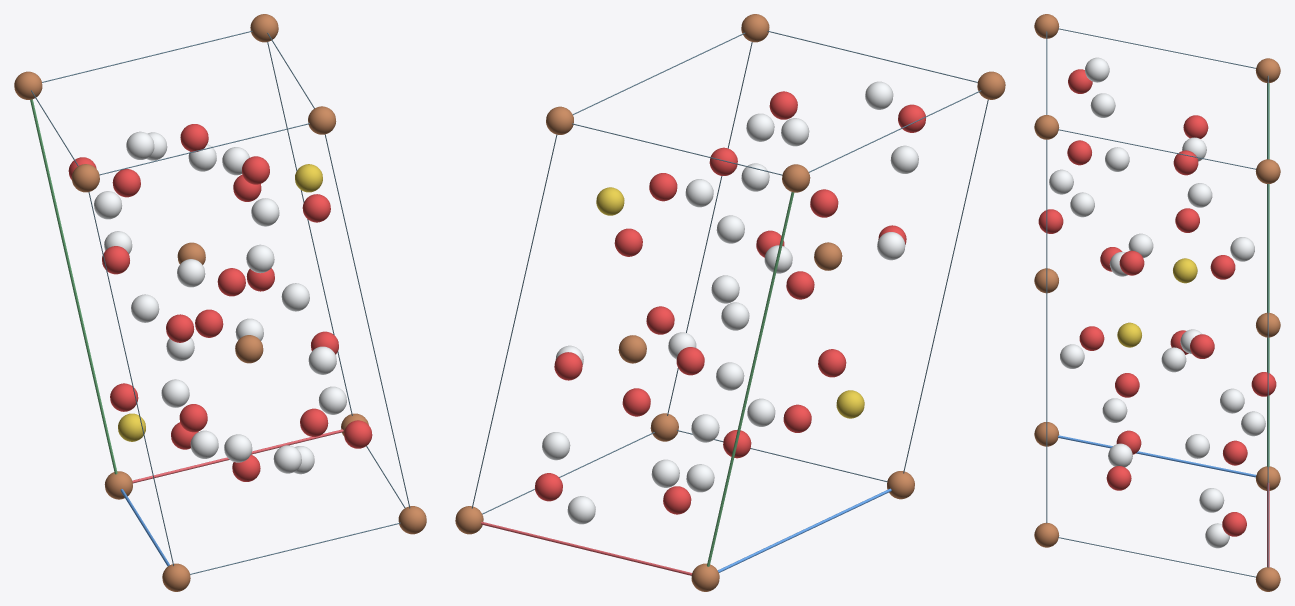
Rendered from chat-chalcanthite.glb.
3 views of the same model, side by side, from view 1: azimuth 30°, elevation 25°; view 2: azimuth 150°, elevation 25°; view 3: azimuth 270°, elevation 25° (orthographic). The views are drawn at different scales.
Visible parts, largest first — view 1: Ô mạng và các trục a, b, c, Cu1 · Cu · 1 (×7), H6A · H · 1 (×2), O5 · O · 1 (×2), H5A · H · 1 (×2), O7 · O · 1 (×2), H8B · H · 1 (×2), O4 · O · 1 (×2), S · S · 1 (×2), H6B · H · 1 (×2), O9 · O · 1 (×2), H9B · H · 1 (×2) (+11 smaller); view 2: Ô mạng và các trục a, b, c; view 3: Cu1 · Cu · 1 (×8), Ô mạng và các trục a, b, c, O2 · O · 1 (×2), O8 · O · 1 (×2), H6A · H · 1 (×2), H9B · H · 1 (×2), S · S · 1 (×2), O6 · O · 1 (×2), Cu2 · Cu · 1 (×2), H5A · H · 1 (×2), H8B · H · 1 (×2), O3 · O · 1 (×2) (+10 smaller).
Part boxes in pixels (bbox=[...]): Ô mạng và các trục a, b, c: bbox=[30, 31, 410, 574]; Cu1 · Cu · 1 (×7): bbox=[14, 14, 426, 591]; H6A · H · 1 (×2): bbox=[161, 198, 279, 407]; O5 · O · 1 (×2): bbox=[112, 169, 328, 436]; H5A · H · 1 (×2): bbox=[94, 191, 346, 414]; O7 · O · 1 (×2): bbox=[195, 268, 245, 337]; H8B · H · 1 (×2): bbox=[131, 283, 309, 322]; O4 · O · 1 (×2): bbox=[110, 194, 330, 411]; S · S · 1 (×2): bbox=[118, 164, 322, 441]; H6B · H · 1 (×2): bbox=[190, 147, 249, 458]; O9 · O · 1 (×2): bbox=[180, 124, 260, 481]; H9B · H · 1 (×2): bbox=[188, 144, 252, 462]; Ô mạng và các trục a, b, c: bbox=[472, 31, 988, 575]; Cu1 · Cu · 1 (×8): bbox=[1034, 14, 1280, 591]; Ô mạng và các trục a, b, c: bbox=[1046, 28, 1269, 577]; O2 · O · 1 (×2): bbox=[1079, 255, 1235, 350]; O8 · O · 1 (×2): bbox=[1038, 209, 1276, 396]; H6A · H · 1 (×2): bbox=[1049, 169, 1265, 436]; H9B · H · 1 (×2): bbox=[1102, 183, 1212, 422]; S · S · 1 (×2): bbox=[1117, 258, 1197, 347]; O6 · O · 1 (×2): bbox=[1067, 140, 1247, 465]; Cu2 · Cu · 1 (×2): bbox=[1034, 268, 1280, 337]; H5A · H · 1 (×2): bbox=[1090, 93, 1224, 512]; H8B · H · 1 (×2): bbox=[1070, 192, 1244, 413]; O3 · O · 1 (×2): bbox=[1115, 208, 1199, 397].
Bounding box in the file's own units: 10.93 × 11.54 × 6.34.
